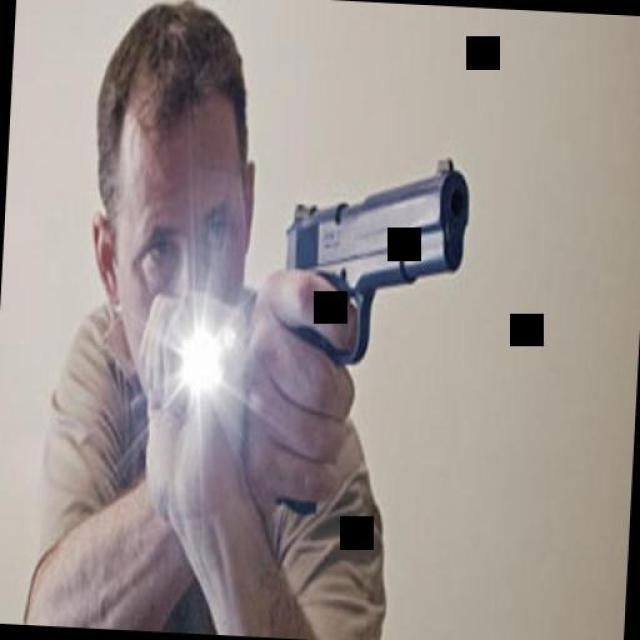gun: (256, 138, 476, 526)
